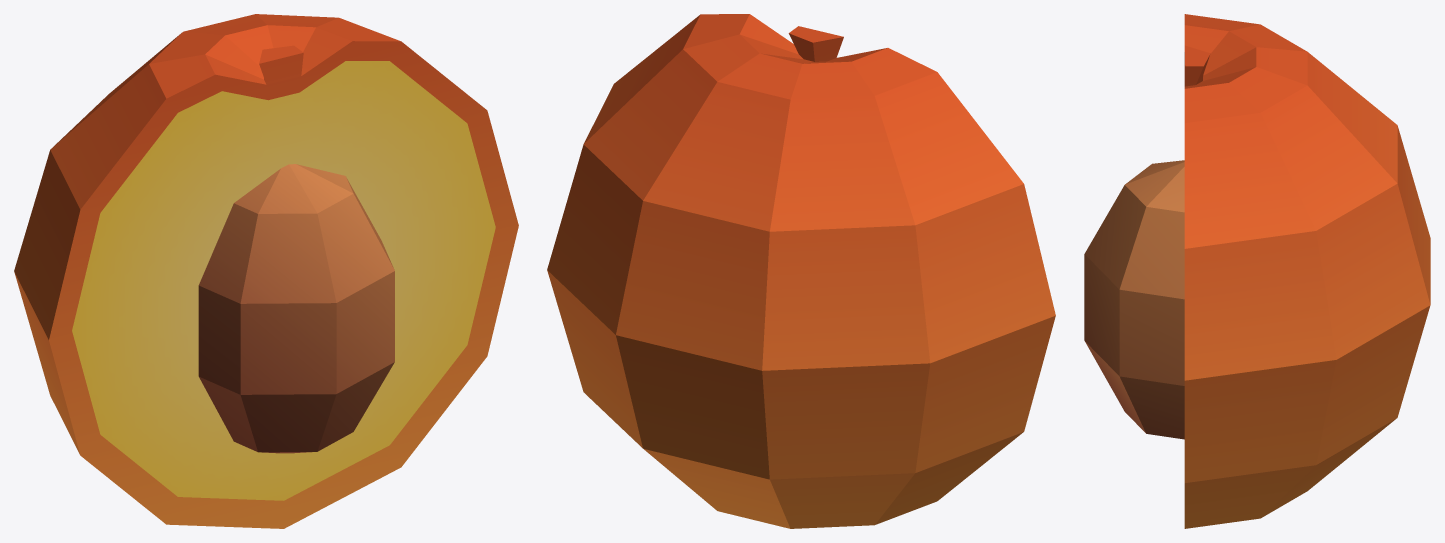
File: Peach Half.fbx
The picture shows the model from 3 angles, left to right: view 1: azimuth 30°, elevation 25°; view 2: azimuth 150°, elevation 25°; view 3: azimuth 270°, elevation 25°; orthographic projection. The views are drawn at different scales.
Parts seen in each view (by area): view 1: Peach Half; view 2: Peach Half; view 3: Peach Half.
Part boxes in pixels (box(x1,y1,x2,y2)): Peach Half: box(14, 14, 518, 528); Peach Half: box(547, 14, 1055, 528); Peach Half: box(1084, 14, 1430, 528).
Size of the model in its own units: 16.84 by 16.13 by 11.27.
